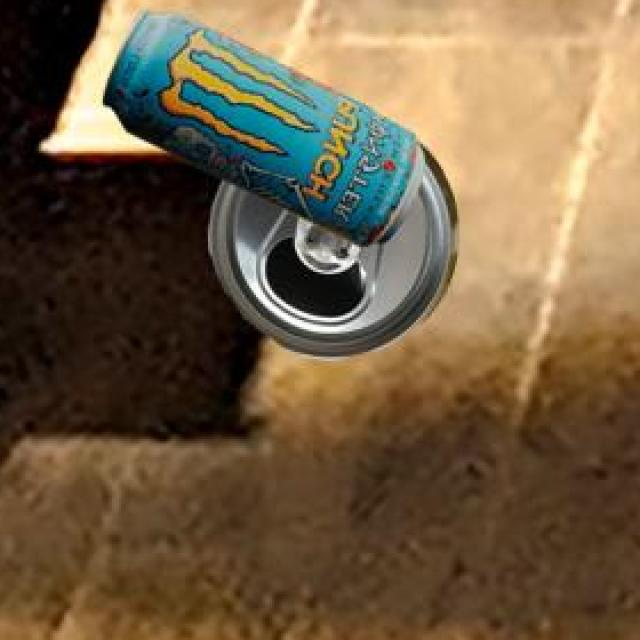logam: (106, 8, 429, 243), (211, 143, 461, 355)
